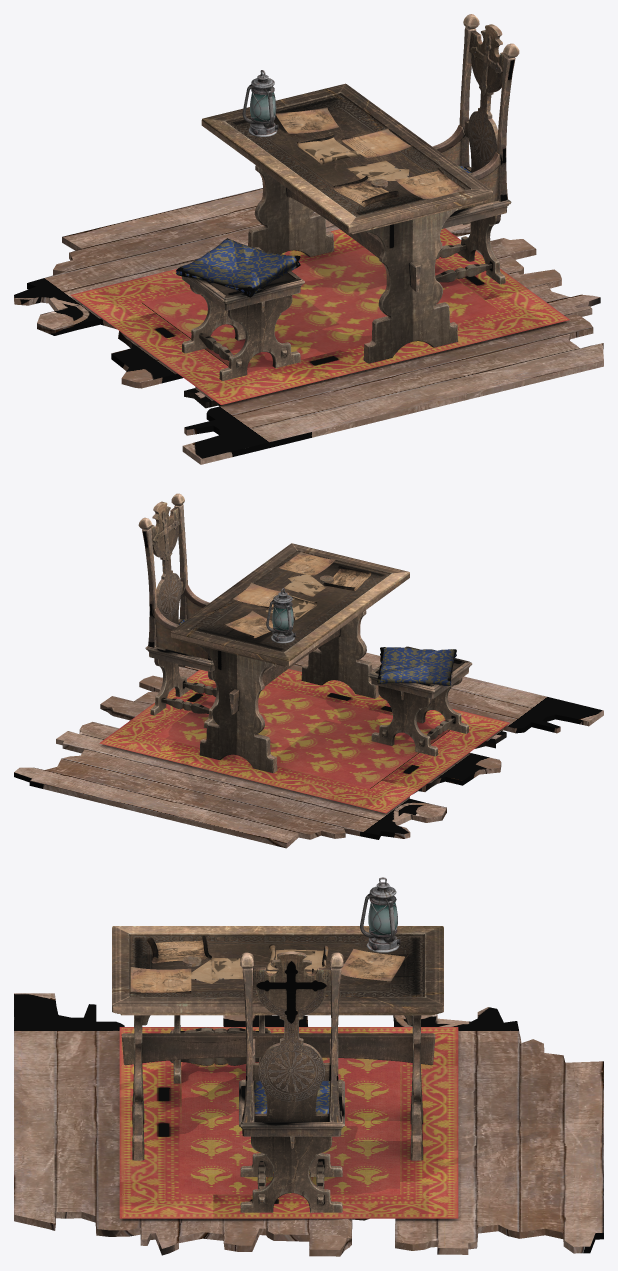
File: Old sketches v5.fbx
The picture shows the model from 3 angles, top to bottom: view 1: azimuth 30°, elevation 25°; view 2: azimuth 150°, elevation 25°; view 3: azimuth 270°, elevation 25°; orthographic projection. The views are drawn at different scales.
Visible parts, largest first — view 1: Box009, Plane002, Object006, Object008, Line046, lantern, Line047, Line048, Line054, Line045; view 2: Box009, Plane002, Object006, Object008, lantern, Line046, Line047, Line048, Line045, Line054; view 3: Box009, Plane002, Object006, Object008, lantern, Line046, Line047, Line048, Line045.
Part boxes in pixels (x1=…): Box009: x1=14, y1=188, x2=603, y2=464; Plane002: x1=71, y1=228, x2=569, y2=404; Object006: x1=201, y1=83, x2=492, y2=363; Object008: x1=176, y1=14, x2=519, y2=380; Line046: x1=297, y1=134, x2=409, y2=180; lantern: x1=242, y1=70, x2=278, y2=136; Line047: x1=395, y1=168, x2=464, y2=199; Line048: x1=276, y1=107, x2=340, y2=133; Line054: x1=341, y1=128, x2=413, y2=157; Line045: x1=333, y1=176, x2=399, y2=206; Box009: x1=14, y1=648, x2=603, y2=848; Plane002: x1=99, y1=669, x2=509, y2=813; Object006: x1=170, y1=543, x2=409, y2=772; Object008: x1=138, y1=493, x2=472, y2=756; lantern: x1=266, y1=588, x2=295, y2=643; Line046: x1=266, y1=574, x2=326, y2=620; Line047: x1=278, y1=551, x2=335, y2=575; Line048: x1=223, y1=610, x2=272, y2=638; Line045: x1=323, y1=565, x2=371, y2=590; Line054: x1=230, y1=582, x2=288, y2=608; Box009: x1=14, y1=993, x2=603, y2=1256; Plane002: x1=119, y1=1027, x2=458, y2=1218; Object006: x1=112, y1=926, x2=443, y2=1160; Object008: x1=170, y1=951, x2=344, y2=1212; lantern: x1=360, y1=877, x2=400, y2=952; Line046: x1=191, y1=944, x2=328, y2=983; Line047: x1=130, y1=966, x2=191, y2=993; Line048: x1=341, y1=949, x2=408, y2=981; Line045: x1=147, y1=935, x2=211, y2=963.
Bounding box in the file's own units: 319 × 160 × 310.
